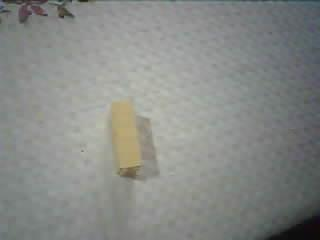lego: (106, 99, 144, 177)
